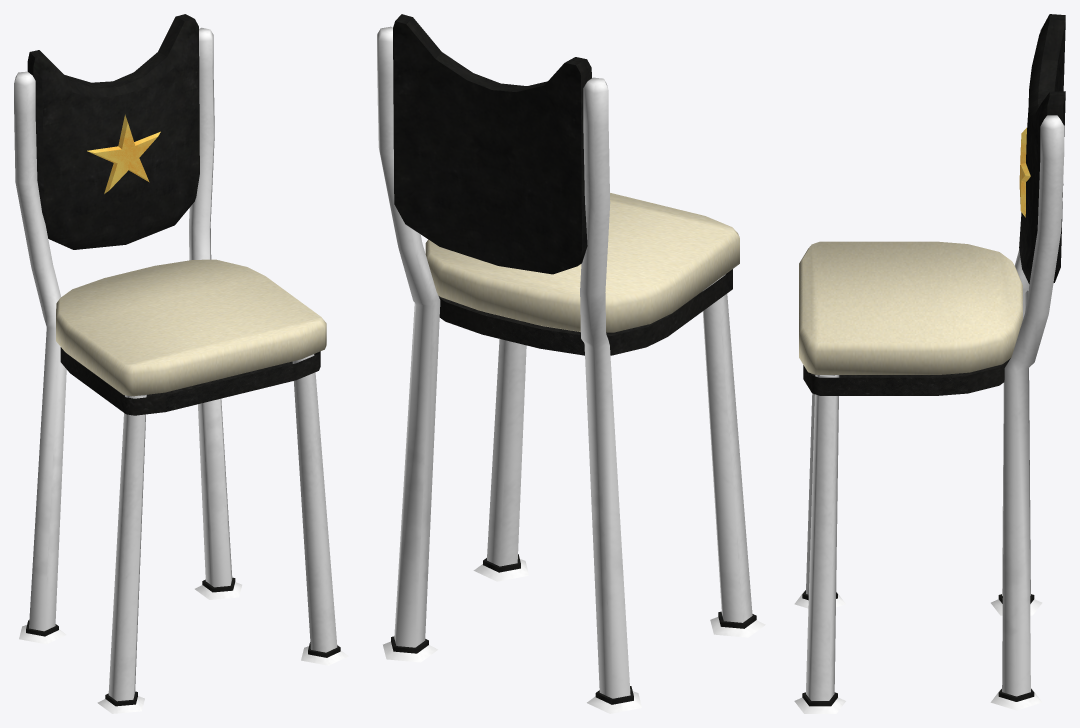
File: Star Chair.fbx
3 views of the same model, side by side, from view 1: azimuth 30°, elevation 25°; view 2: azimuth 150°, elevation 25°; view 3: azimuth 270°, elevation 25° (orthographic). The views are drawn at different scales.
Visible parts, largest first — view 1: Star Chair; view 2: Star Chair; view 3: Star Chair.
Part boxes in pixels (box(x1,y1,x2,y2)): Star Chair: box(14, 14, 348, 713); Star Chair: box(377, 14, 765, 713); Star Chair: box(794, 14, 1065, 713).
Bounding box in the file's own units: 38.54 × 87.51 × 36.06.
